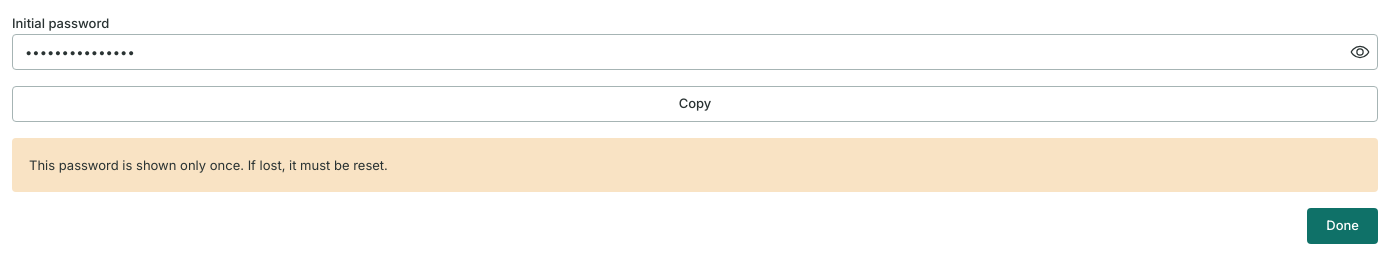
Test: RevealOnce › reveals the value through the visibility toggle
The image size is (1390, 261).
Click the button named "toggle password visibility". click: (1360, 52)
box: [1347,39,1373,65]
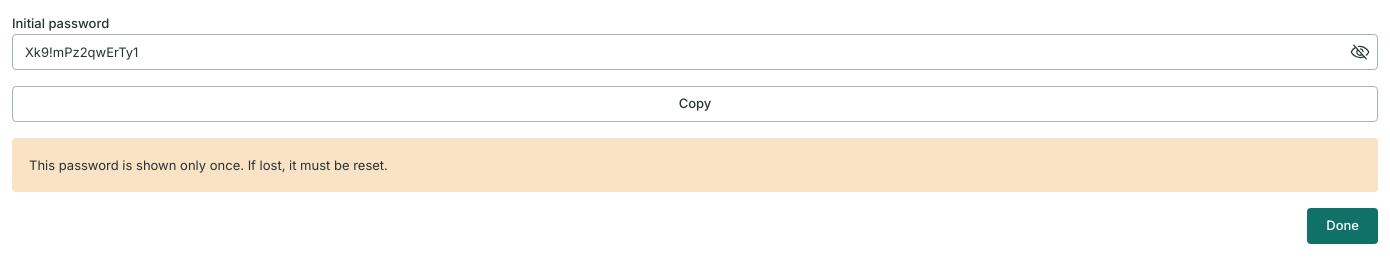
Expected: the field labelled "Initial password" shows its text, [13,35,1377,69]
